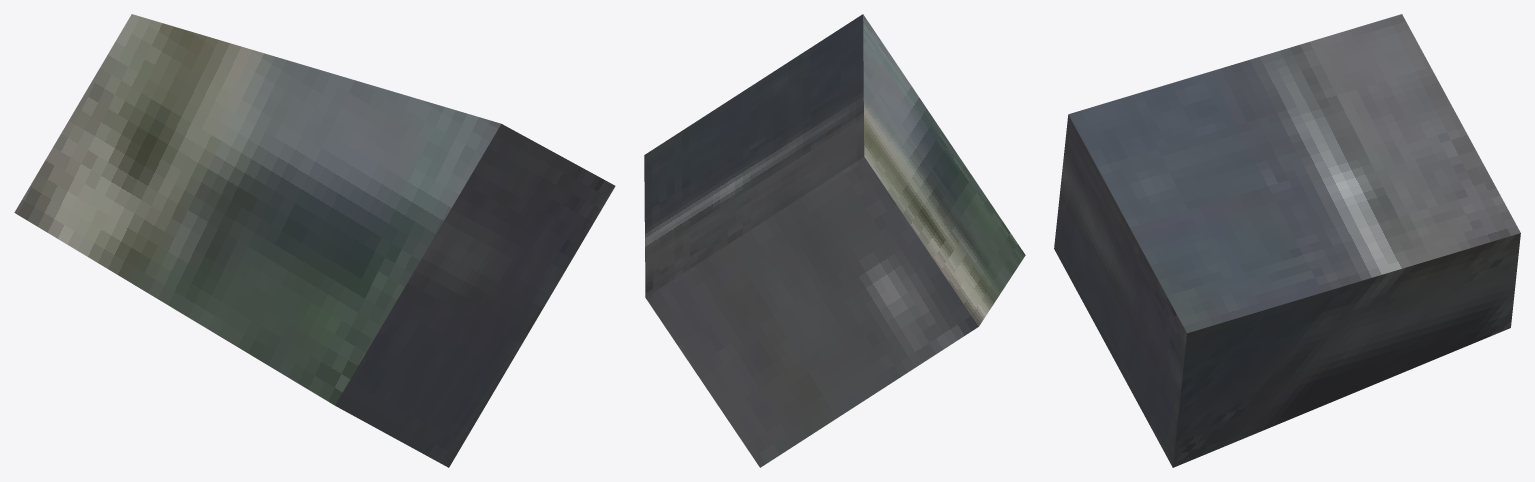
3 renders of one model, left to right at view 1: azimuth 30°, elevation 25°; view 2: azimuth 150°, elevation 25°; view 3: azimuth 270°, elevation 25°, orthographic. The views are drawn at different scales.
Parts seen in each view (by area): view 1: BAG_0599100010001164; view 2: BAG_0599100010001164; view 3: BAG_0599100010001164.
Part boxes in pixels (bbox=[...]): BAG_0599100010001164: bbox=[14, 14, 615, 467]; BAG_0599100010001164: bbox=[644, 14, 1025, 467]; BAG_0599100010001164: bbox=[1054, 14, 1520, 467].
Bounding box in the file's own units: 4.82 × 3.85 × 4.41.
2 materials, 1 textured.
